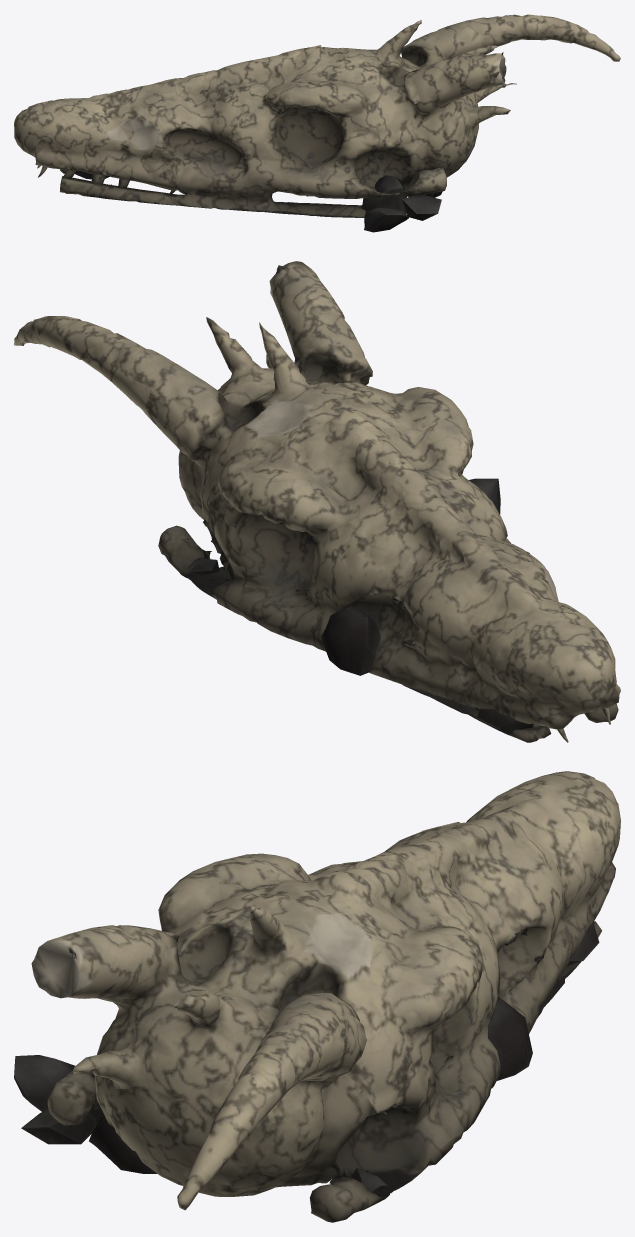
File: b4p_dragon_skull.glb
3 views of the same model, one above another, from view 1: azimuth 30°, elevation 25°; view 2: azimuth 150°, elevation 25°; view 3: azimuth 270°, elevation 25° (orthographic). The views are drawn at different scales.
Visible parts, largest first — view 1: b4p_dragon_skull; view 2: b4p_dragon_skull; view 3: b4p_dragon_skull.
Part boxes in pixels (left/top/right/bottom): b4p_dragon_skull: left=14, top=14, right=620, bottom=232; b4p_dragon_skull: left=14, top=261, right=620, bottom=742; b4p_dragon_skull: left=14, top=771, right=620, bottom=1222.
Size of the model in its own units: 2.96 by 0.8303 by 1.65.
Materials: 1 (1 with a texture image).
